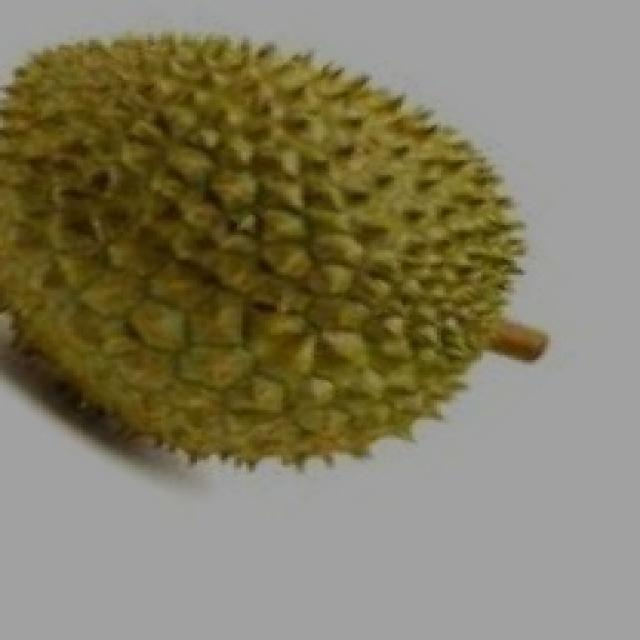fruit: (0, 172, 348, 532)
